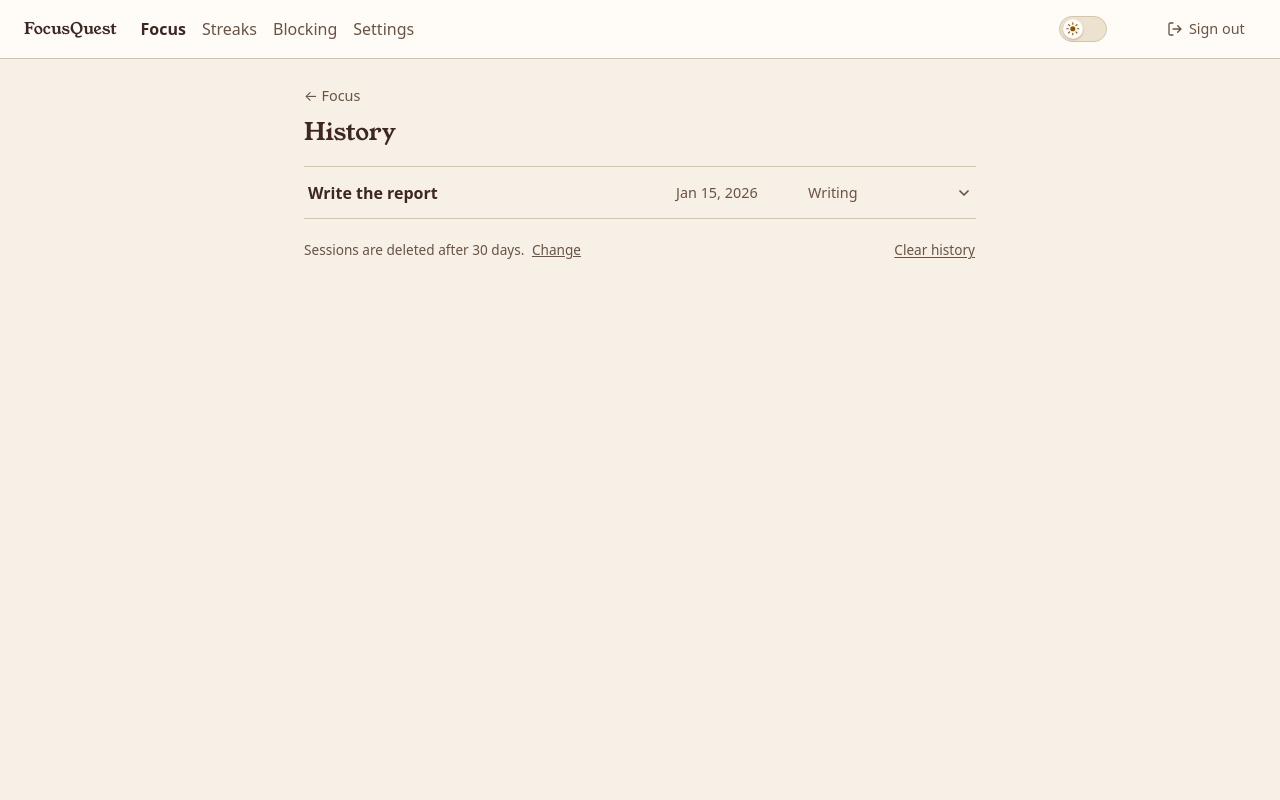
Scenario: HistoryView › clearing and retention › shows why clearing was refused and keeps the sessions
Click the button "Clear history" at x=935, y=251, box [893,239,976,262]
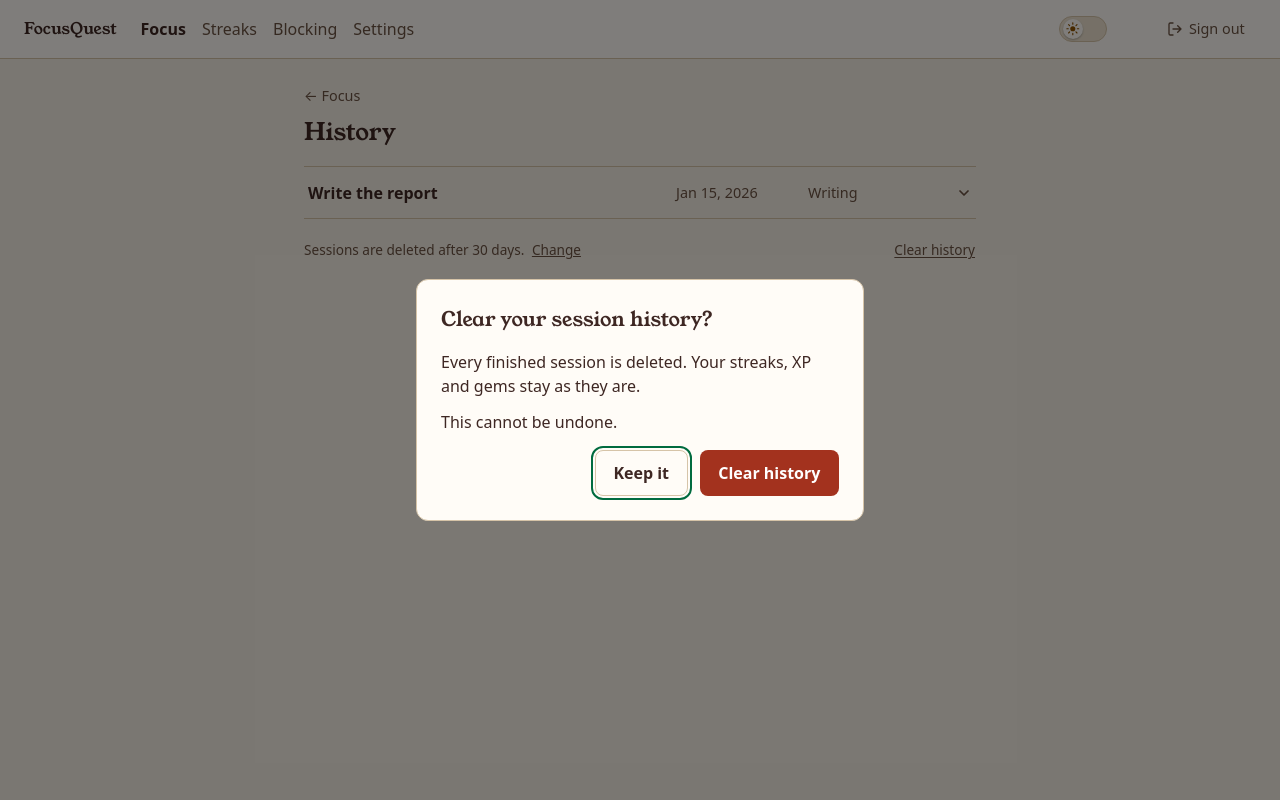
Click the button "Clear history" at x=769, y=473, box [700,450,839,496]
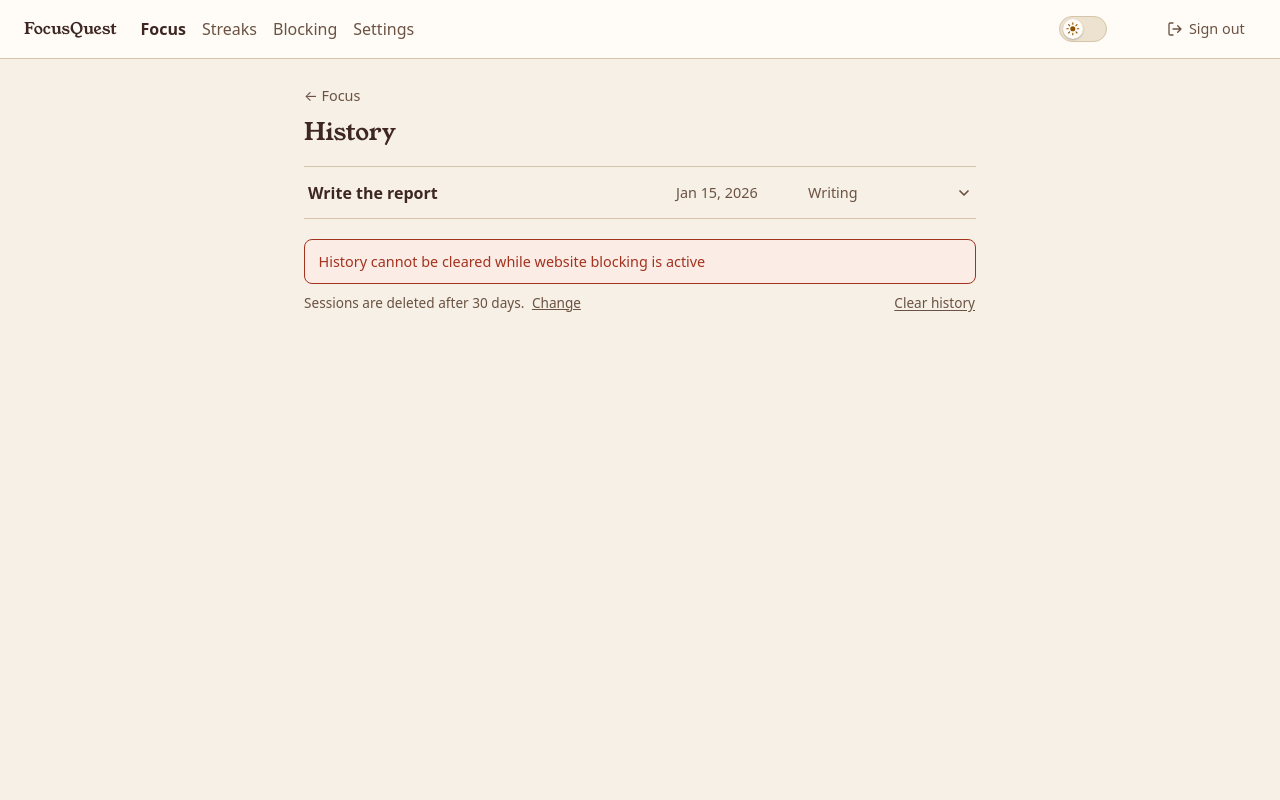
Now the message "History cannot be cleared while website blocking is active" is shown, box [304,239,976,284]
